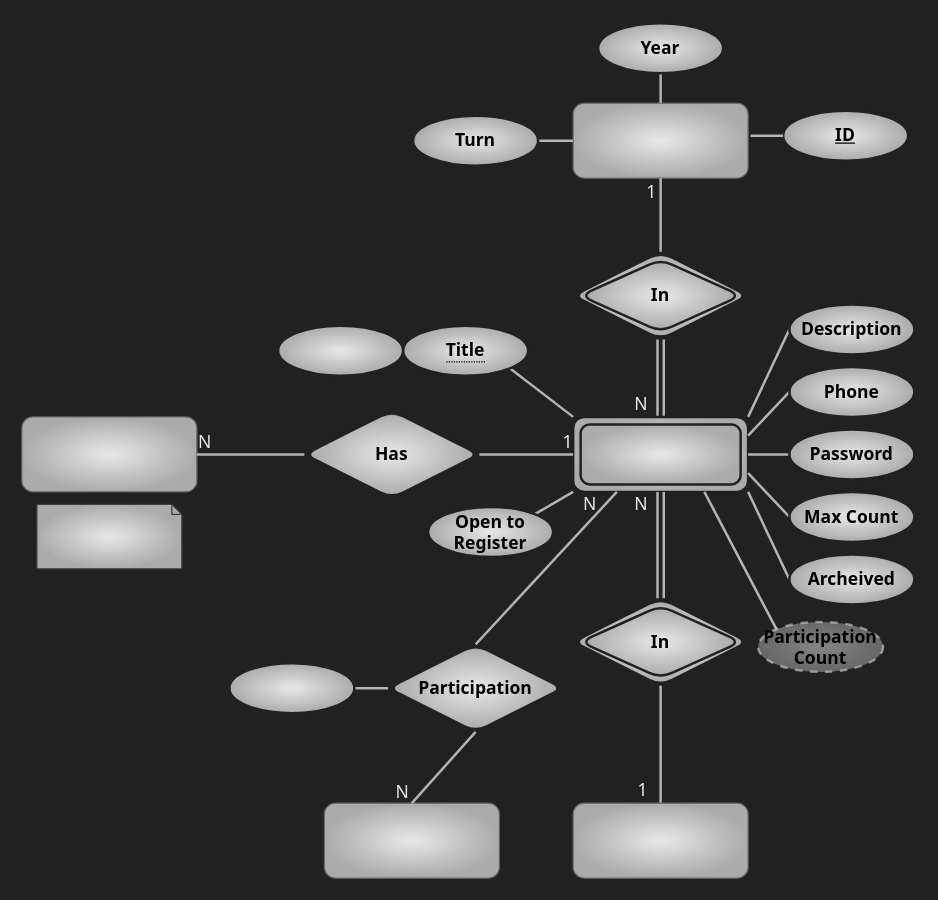
This 938x900 diagram has some shape labels left out. Each missing label, with the centre of its shape:
Class: point 660,453
Developer: point 411,840
Institute: point 660,840
Practice: point 109,454
Professor: point 340,350
Semester: point 660,140
should be weak with class: point 109,536
Student Number: point 291,687
